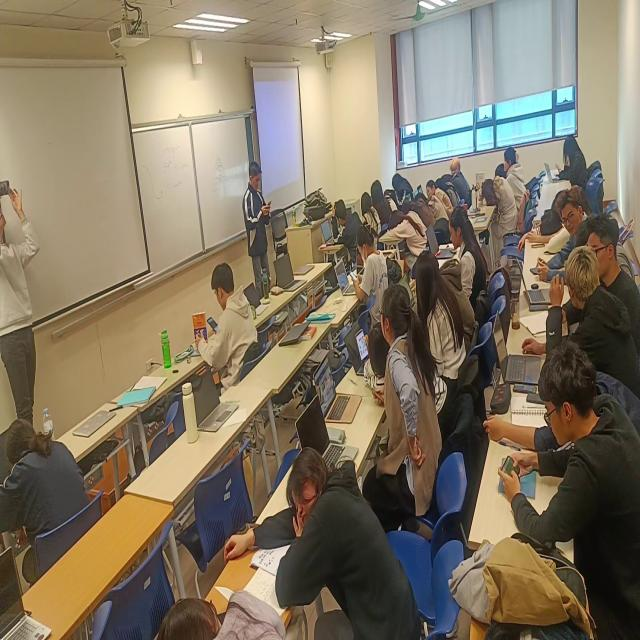raise_head: (370, 284, 450, 510)
sleep: (225, 441, 424, 640), (1, 405, 96, 599), (160, 590, 289, 640), (385, 209, 431, 266), (480, 176, 520, 241), (416, 192, 451, 233), (402, 200, 438, 237), (444, 174, 472, 215), (436, 180, 463, 216), (539, 204, 564, 239), (386, 186, 404, 222), (495, 163, 509, 185)
stand: (1, 173, 46, 440), (239, 157, 276, 301)
using_computer: (322, 197, 372, 273)
using_phone: (492, 338, 640, 624), (355, 318, 456, 426), (189, 260, 269, 396), (350, 219, 393, 335), (552, 135, 589, 192)
